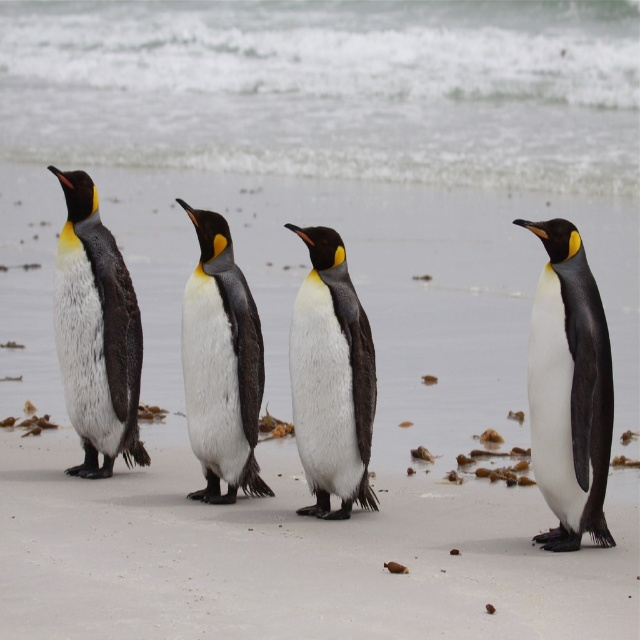Penguin: (513, 220, 618, 548), (44, 164, 153, 478), (172, 195, 274, 506), (281, 220, 380, 518)
